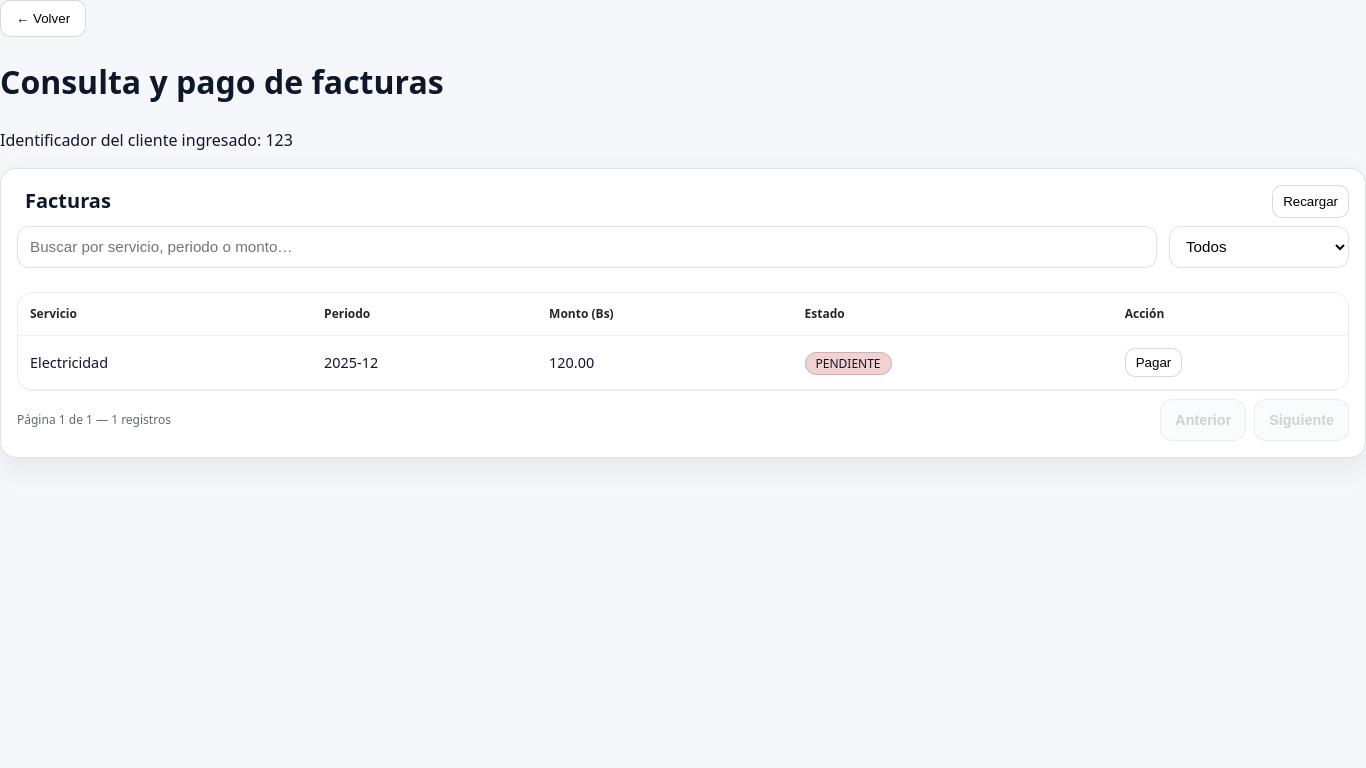
Test: Facturas - flujo de pago › pago exitoso: cambia a PAGADO y desaparece botón Pagar
Expected: the text "Electricidad" is shown, [30,353,108,372]
Click the button "Pagar": (1154, 362) [1125,348,1182,377]
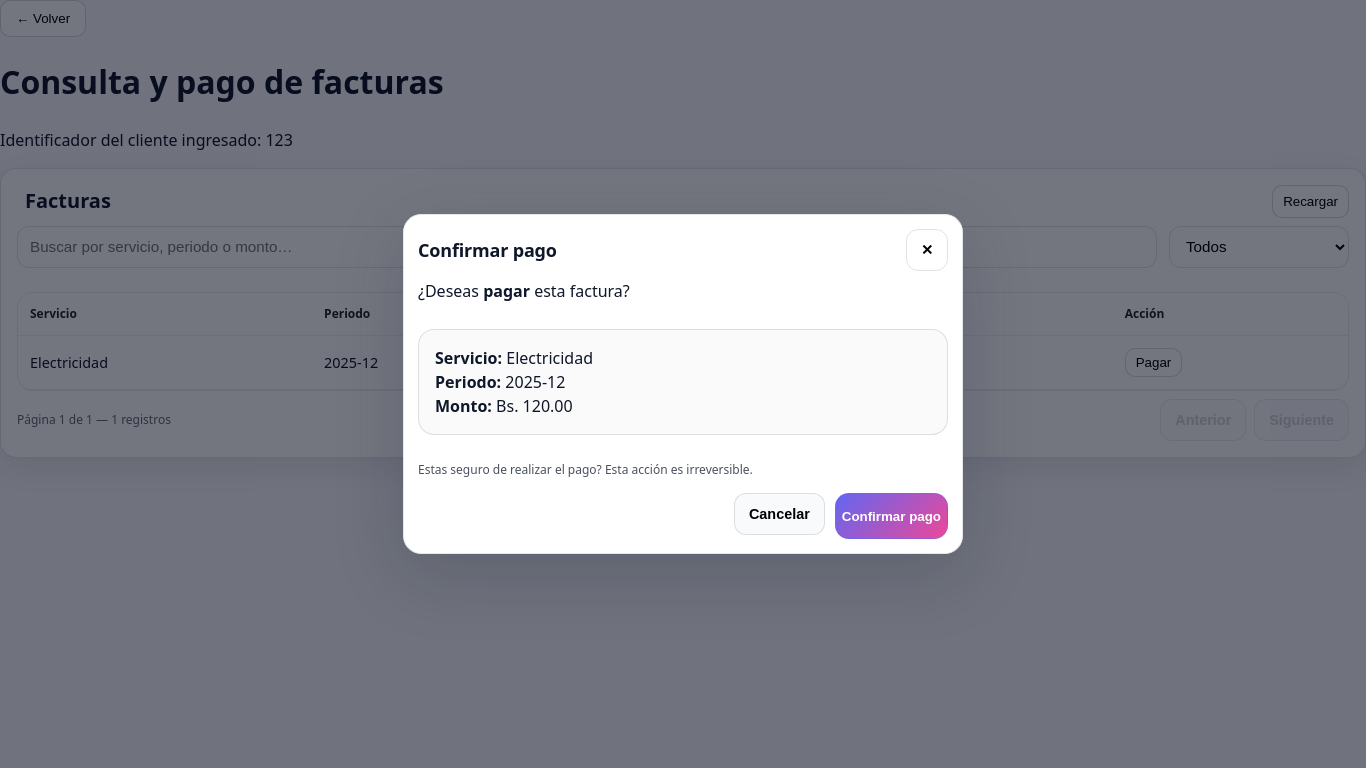
Expected: the dialog is shown
Expected: the button "Confirmar pago" is shown
Click the button "Confirmar pago": (891, 516) [835,493,948,539]
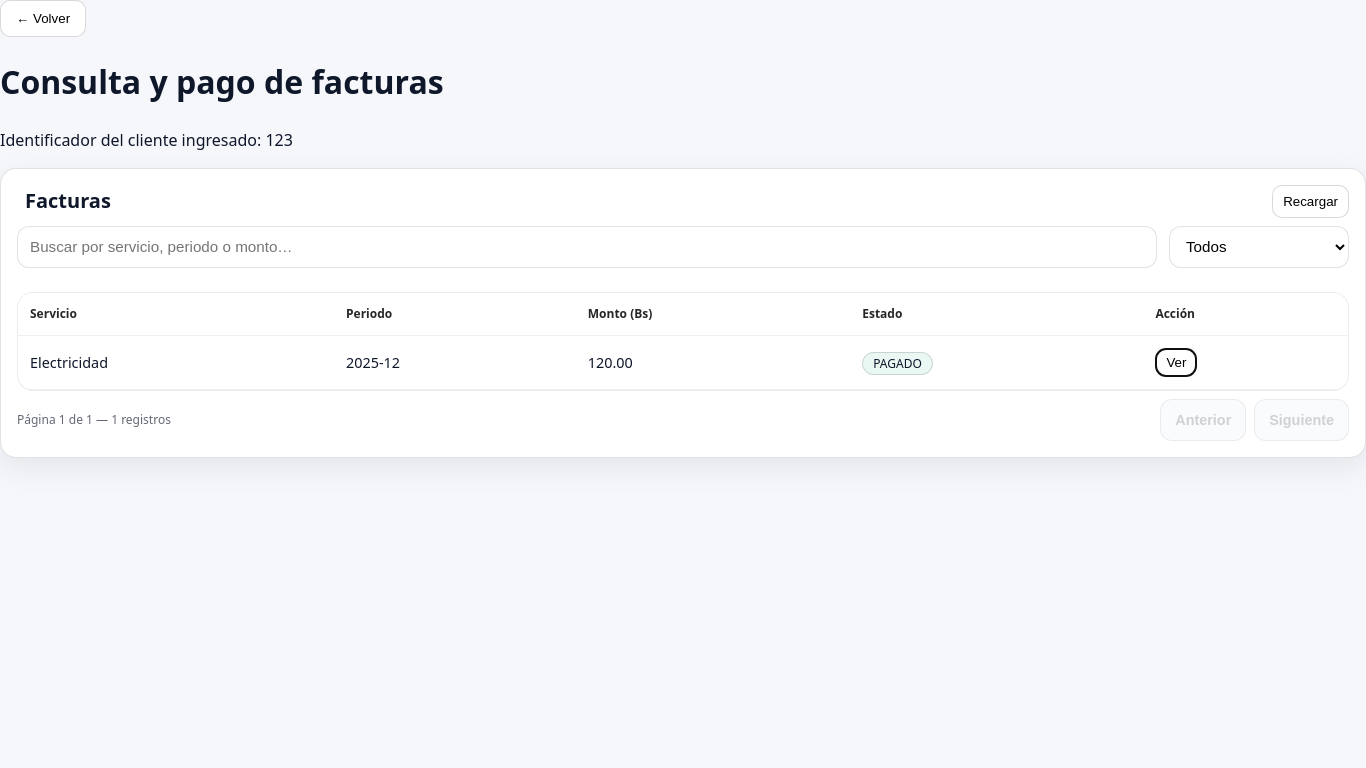
Expected: the text "pagar" is gone
Expected: the text "PAGADO" is shown, [862,352,933,375]
